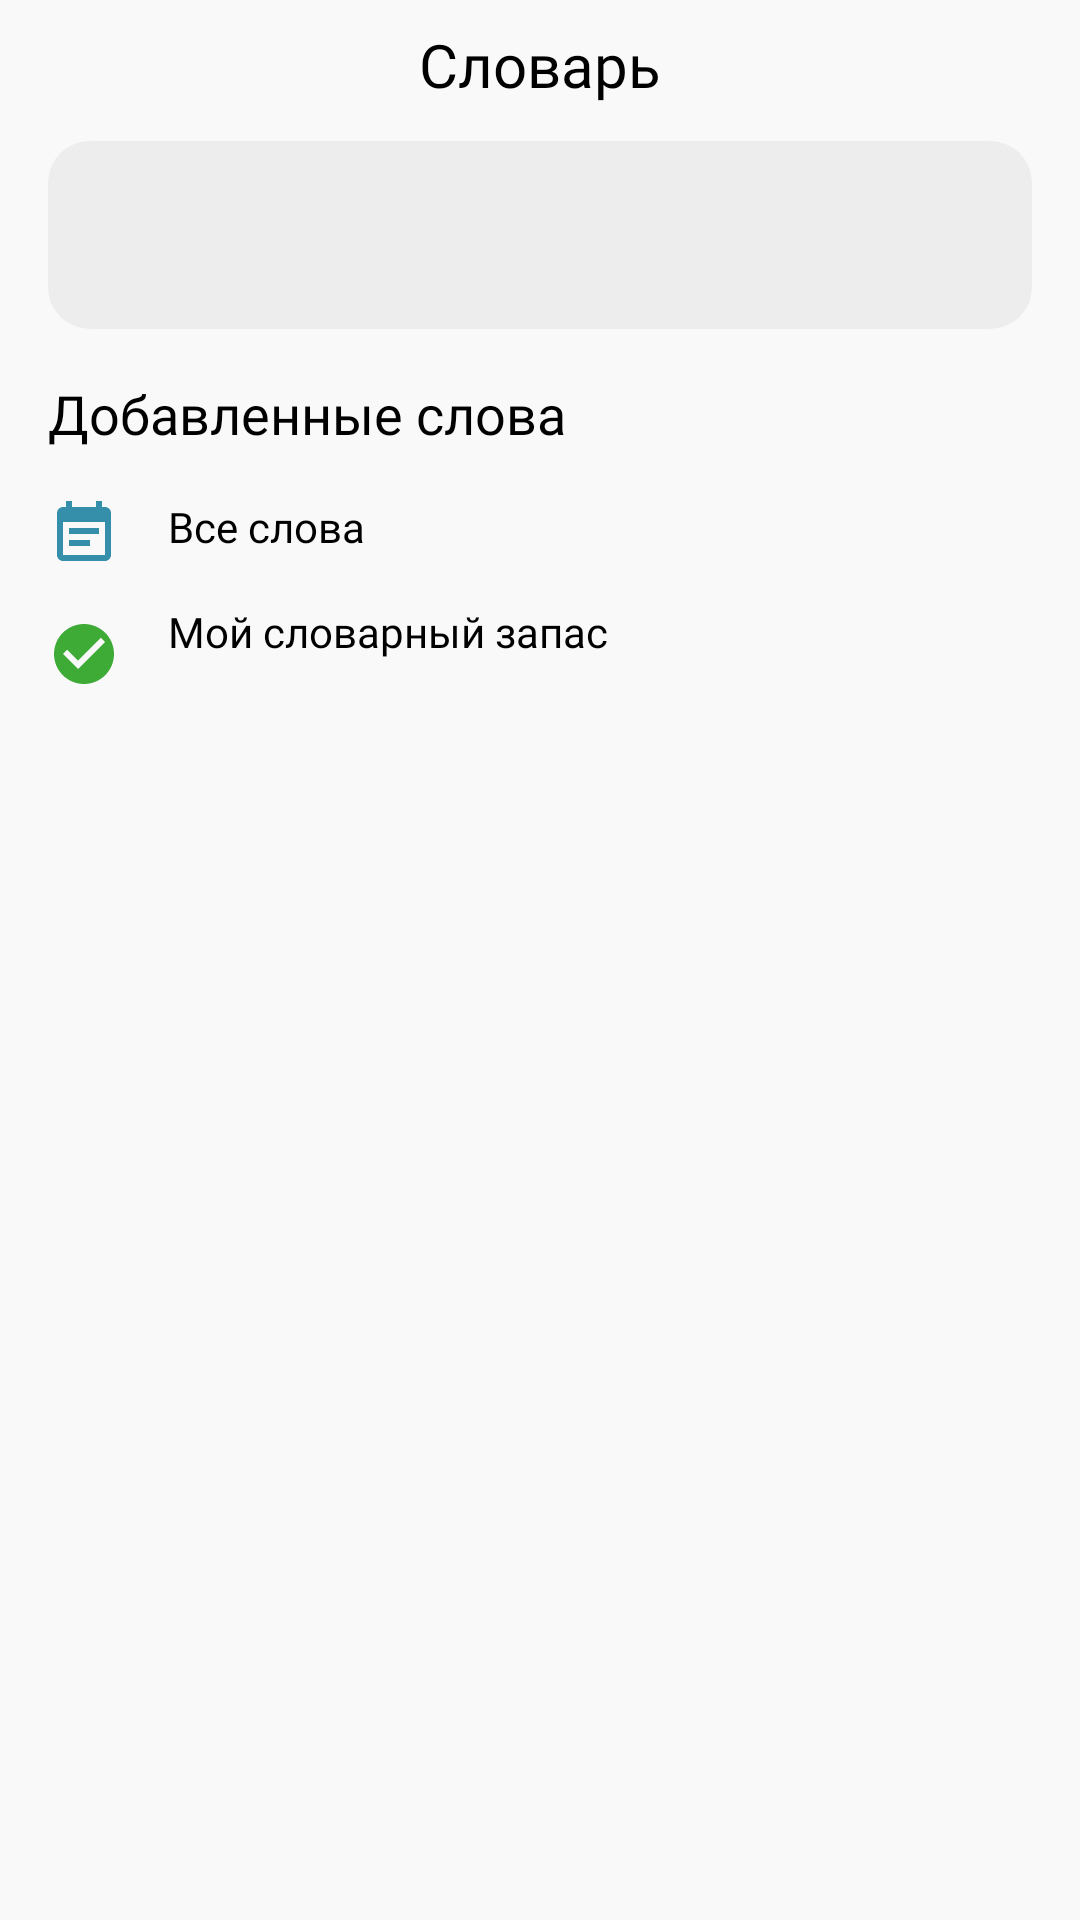

Point at icon controls on the screen. Image size 1080 × 1920, points as point (x, y).
check circle: point (84, 654)
event note: point (84, 531)
